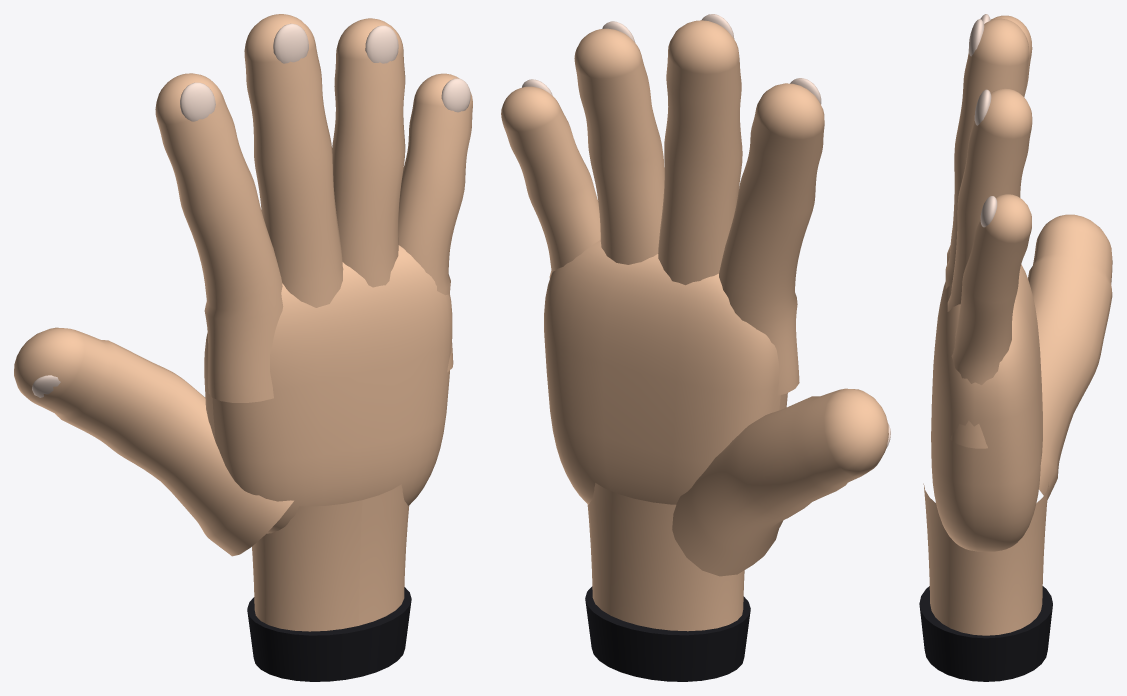
Rendered from hand-right-five.glb.
3 views of the same model, side by side, from view 1: azimuth 30°, elevation 25°; view 2: azimuth 150°, elevation 25°; view 3: azimuth 270°, elevation 25° (orthographic). The views are drawn at different scales.
Visible parts, largest first — view 1: hand-right-five; view 2: hand-right-five; view 3: hand-right-five.
Part boxes in pixels (x1,y1,x2,y2): hand-right-five: (14, 14, 472, 681); hand-right-five: (501, 14, 890, 681); hand-right-five: (919, 14, 1112, 681).
Size of the model in its own units: 0.1419 by 0.2103 by 0.0604.
